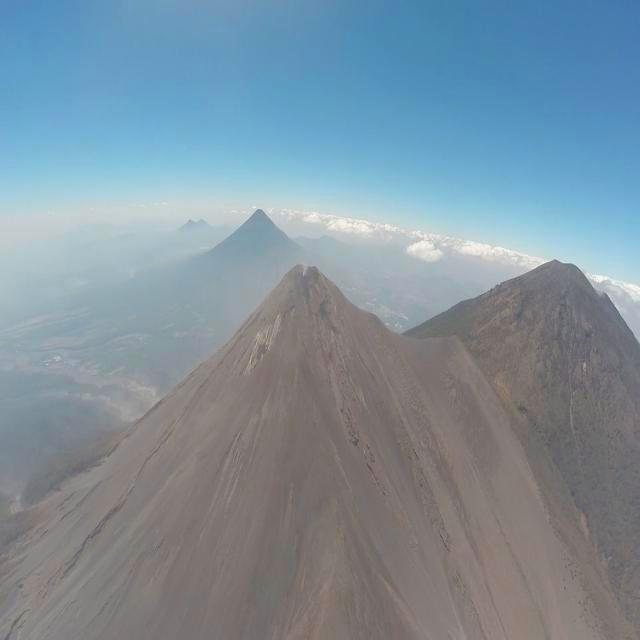Summit: (190, 257, 388, 380)
